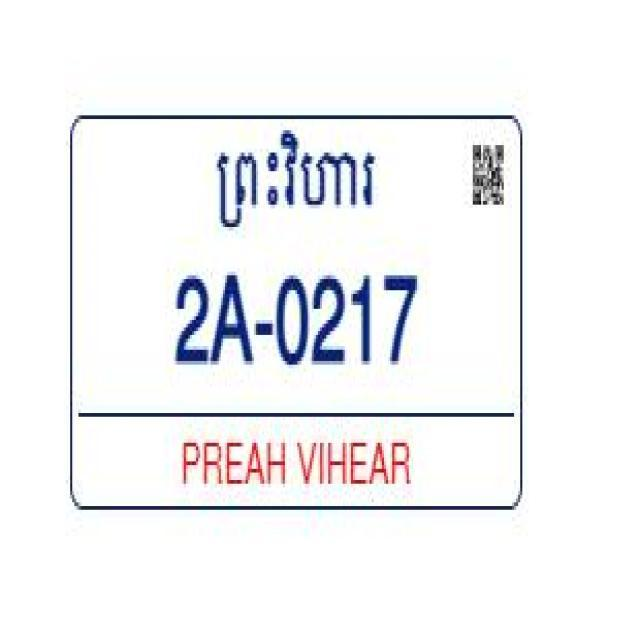Preah_Vihear: (215, 131, 377, 237)
